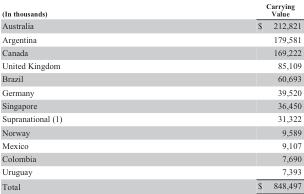table: (1, 1, 300, 190)
table column: (1, 1, 159, 190), (159, 1, 300, 190)
table column header: (1, 1, 300, 18)
table row: (1, 1, 300, 18), (1, 18, 300, 32), (1, 71, 300, 85), (1, 111, 300, 125), (1, 164, 300, 178), (1, 32, 300, 45), (1, 45, 300, 58), (1, 58, 300, 71), (1, 85, 300, 98), (1, 98, 300, 111), (1, 125, 300, 138), (1, 138, 300, 151), (1, 151, 300, 164), (1, 178, 300, 190)
